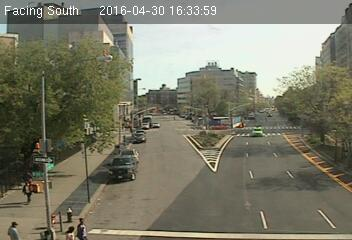neg: (216, 170, 246, 210), (144, 148, 173, 186), (89, 137, 115, 172), (46, 54, 72, 89), (117, 50, 143, 84), (288, 92, 313, 124), (252, 109, 275, 139), (270, 181, 293, 211), (191, 53, 213, 82), (180, 99, 200, 126), (55, 193, 74, 218), (128, 123, 146, 147)
pos: (20, 176, 38, 200), (78, 213, 93, 234), (7, 217, 22, 236), (64, 225, 73, 237)
